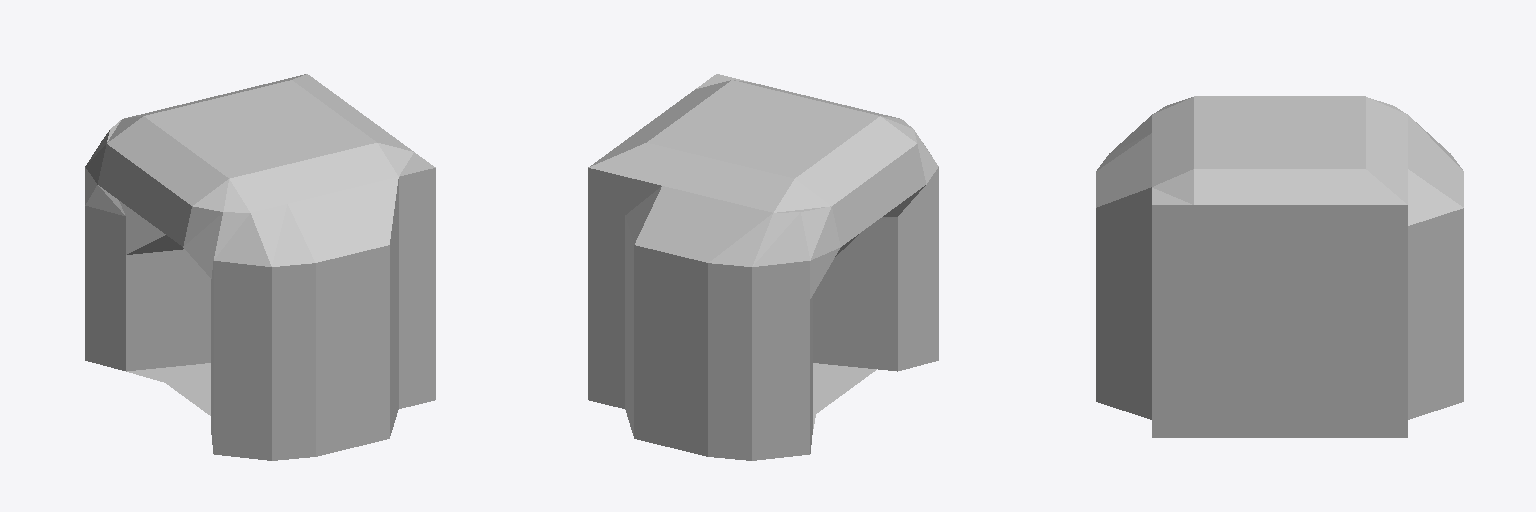
Rendered from Gate.obj.
3 views of the same model, side by side, from view 1: azimuth 30°, elevation 25°; view 2: azimuth 150°, elevation 25°; view 3: azimuth 270°, elevation 25° (orthographic).
Visible parts, largest first — view 1: Group2; view 2: Group2; view 3: Group2.
Boxes of the visible parts, box(x1,y1,x2,y2) form: Group2: box(85, 74, 435, 460); Group2: box(588, 74, 938, 460); Group2: box(1096, 96, 1463, 437).
Size of the model in its own units: 1.04 by 1.08 by 1.44.